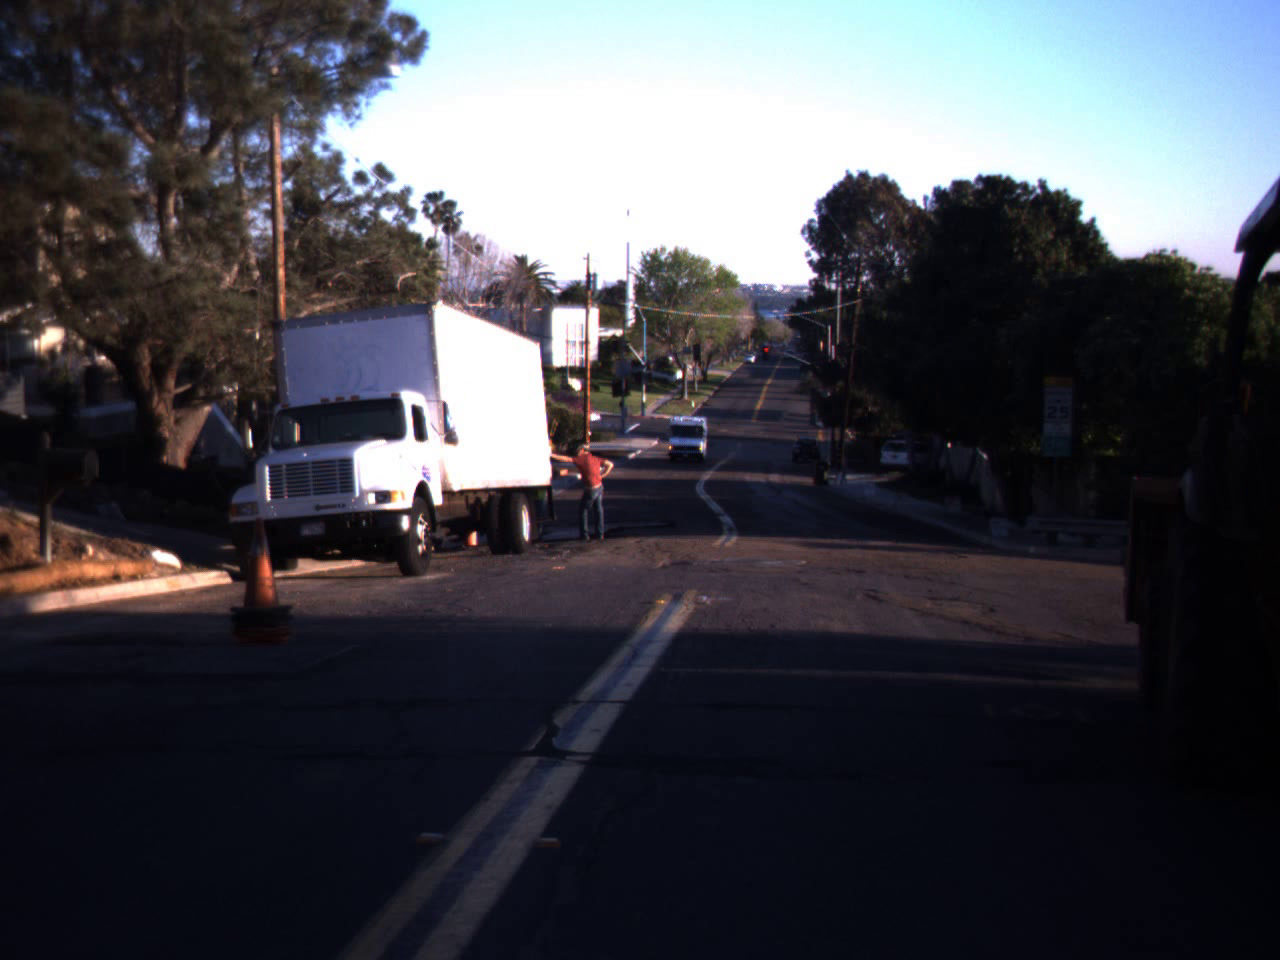stop: (760, 346, 772, 364)
